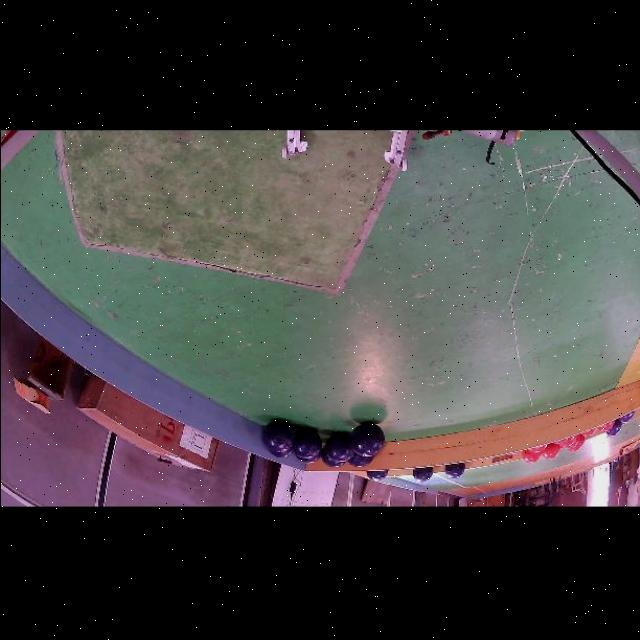B: (350, 422, 384, 457), (261, 420, 294, 452), (324, 432, 354, 462), (291, 428, 321, 458), (320, 446, 345, 467), (295, 449, 321, 463), (346, 453, 372, 467), (444, 462, 464, 478), (412, 467, 432, 482), (268, 447, 291, 458), (366, 470, 387, 482)
P: (605, 419, 621, 436), (618, 411, 634, 423)
R: (541, 444, 561, 460), (568, 435, 584, 452), (521, 451, 541, 463), (596, 420, 614, 431), (566, 435, 579, 450), (559, 436, 576, 446), (528, 444, 546, 453), (580, 428, 596, 436), (553, 438, 567, 445)
